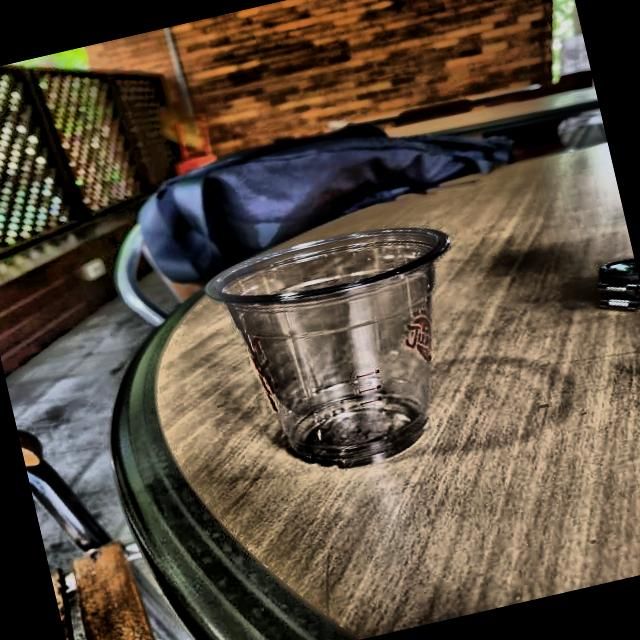plastic cup: (186, 201, 508, 501)
